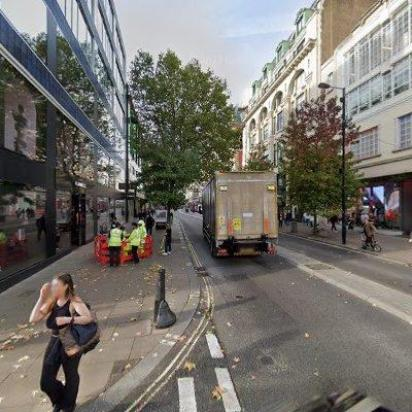moving-bicycle: (354, 215, 382, 252)
moving-heavy-truck: (199, 168, 279, 262)
